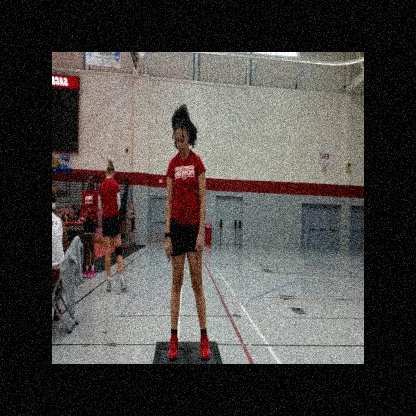lateral_flexion_left: (164, 104, 212, 364)
stance_width_normal: (163, 146, 212, 364)
